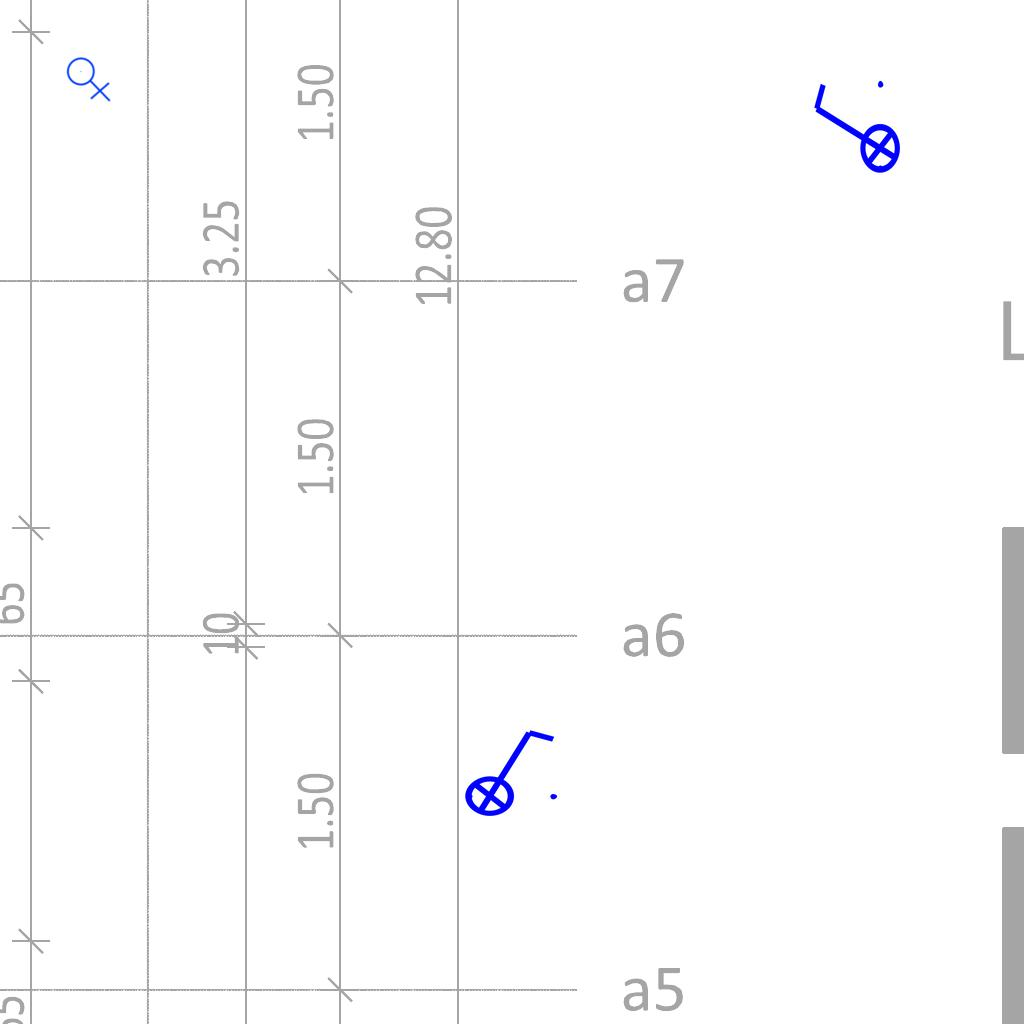Ausschalter_beleuchtet: (806, 75, 902, 187), (451, 722, 563, 818)
Elektroanschluss_allgemein_230V_Geraeteanschlussdose_230V: (66, 53, 113, 102)
